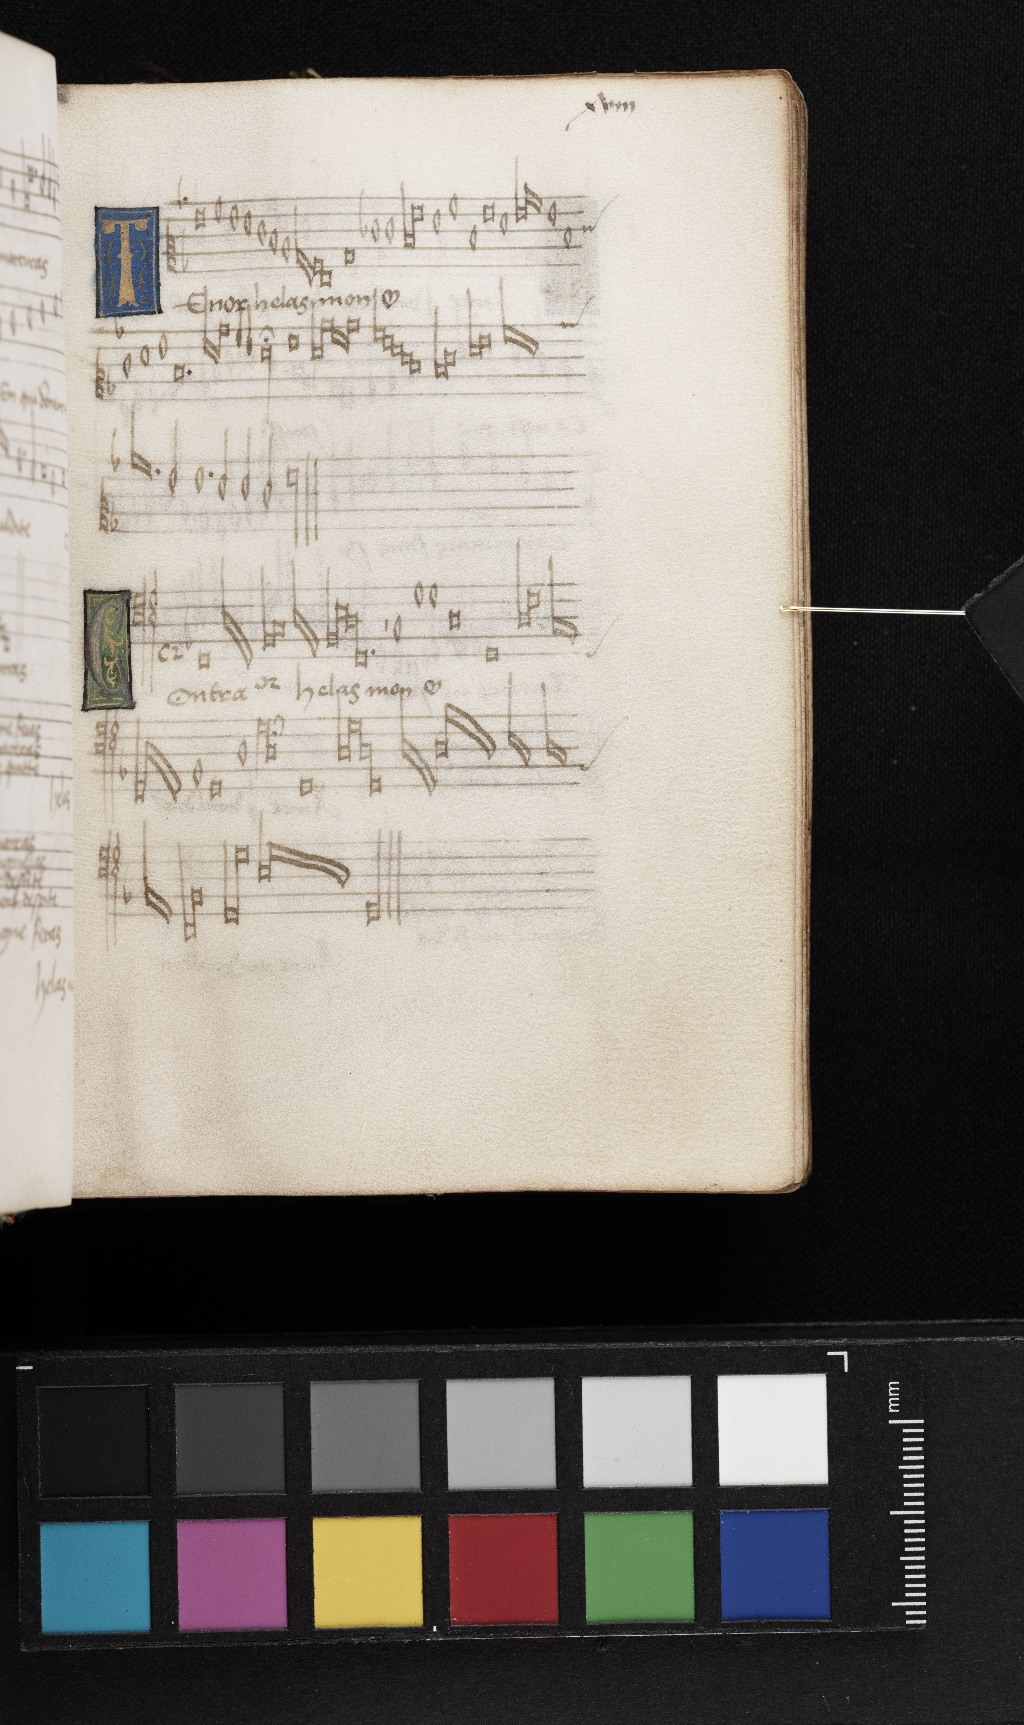2: (169, 642, 184, 661)
Imin: (156, 640, 171, 664)
breve_11: (485, 642, 503, 668)
breve_7: (445, 607, 464, 633)
c clef_5: (128, 574, 160, 656)
custos_11: (581, 631, 608, 660)
flat_11: (195, 646, 212, 673)
flat_9: (180, 599, 196, 650)
l1semibreve_7: (512, 545, 530, 633)
l1semibreve_9: (319, 564, 336, 651), (257, 572, 276, 652)
l2breve_7: (344, 610, 361, 638)
l2longa_11: (351, 621, 369, 670)
l2semibreve_5: (525, 586, 542, 616)
l2semibreve_6: (336, 600, 349, 624)
l2semibreve_8: (271, 614, 286, 642)
o1semibreve_7: (215, 557, 235, 669), (286, 563, 304, 660)
o1semibreve_8: (545, 549, 564, 638)
o2semibreve_10: (304, 563, 319, 660)
o2semibreve_11: (235, 557, 256, 669)
o2semibreve_9: (563, 549, 581, 645)
point: (369, 641, 380, 660)
semibreve rest: (380, 583, 391, 658)
semibreve_4: (428, 577, 446, 619), (410, 572, 427, 614)
semibreve_8: (390, 610, 408, 651)
